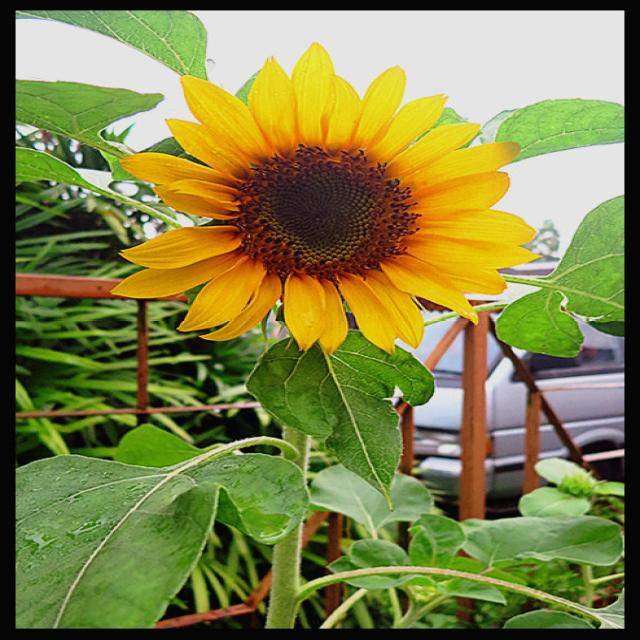sunflower: (97, 29, 546, 355)
